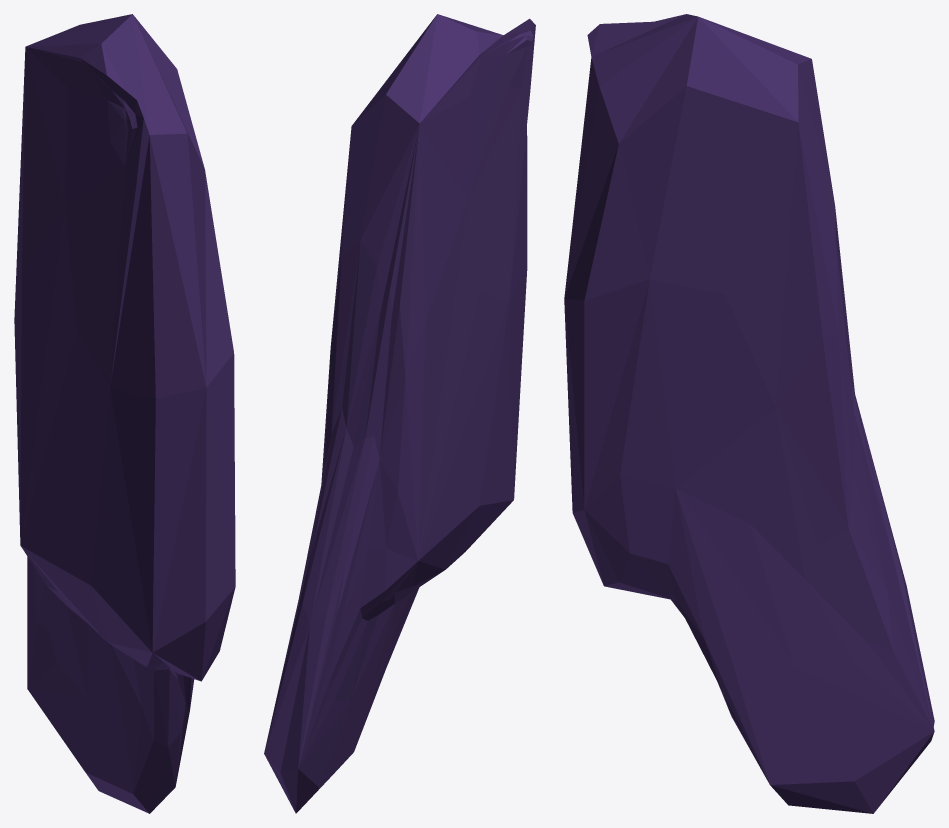
The picture shows the model from 3 angles, left to right: view 1: azimuth 30°, elevation 25°; view 2: azimuth 150°, elevation 25°; view 3: azimuth 270°, elevation 25°; orthographic projection. The views are drawn at different scales.
Visible parts, largest first — view 1: 628_Cube.2526; view 2: 628_Cube.2526; view 3: 628_Cube.2526.
Boxes of the visible parts, <box> form: 628_Cube.2526: <box>14,14,235,813</box>; 628_Cube.2526: <box>264,14,535,813</box>; 628_Cube.2526: <box>564,14,934,813</box>.
Bounding box in the file's own units: 2.81 × 16.53 × 7.21.
